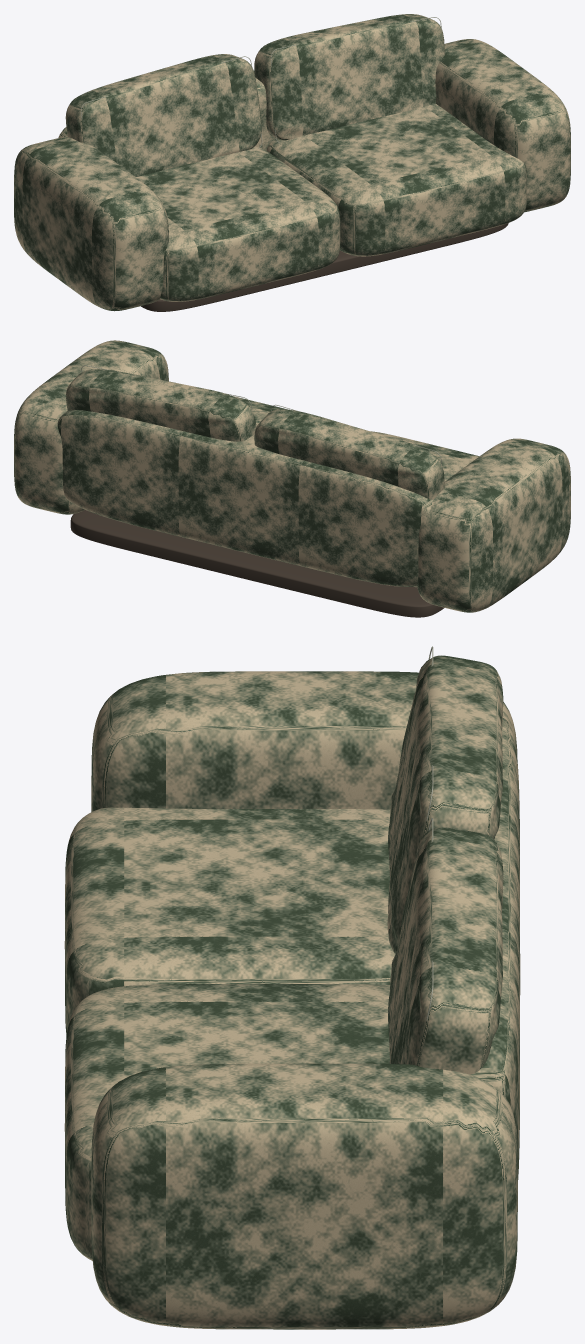
The model's file is P01_sofa_photo_reconstruction.glb.
The picture shows the model from 3 angles, top to bottom: view 1: azimuth 30°, elevation 25°; view 2: azimuth 150°, elevation 25°; view 3: azimuth 270°, elevation 25°; orthographic projection. The views are drawn at different scales.
Visible parts, largest first — view 1: Sage sand cloud jacquard upholstery, Recessed espresso base; view 2: Sage sand cloud jacquard upholstery, Recessed espresso base; view 3: Sage sand cloud jacquard upholstery.
Boxes of the visible parts, <box> form: Sage sand cloud jacquard upholstery: <box>14,14,570,311</box>; Recessed espresso base: <box>141,223,508,311</box>; Sage sand cloud jacquard upholstery: <box>14,340,570,612</box>; Recessed espresso base: <box>70,510,444,617</box>; Sage sand cloud jacquard upholstery: <box>64,655,520,1329</box>.
Size of the model in its own units: 2.48 by 0.8348 by 1.03.
3 materials, 1 textured.
